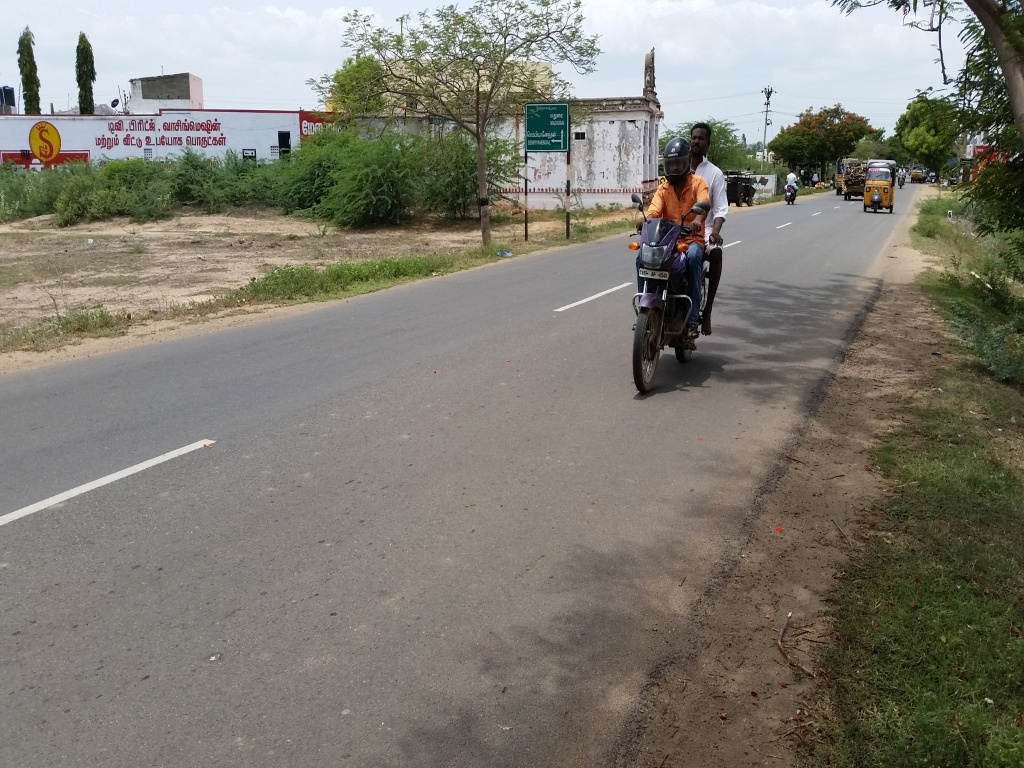biker: (603, 90, 742, 410)
helmet: (658, 137, 692, 198)
nohelmet: (685, 119, 713, 164)
